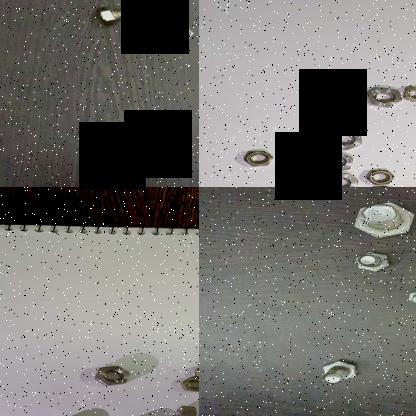Bolts: (347, 198, 416, 240), (306, 354, 366, 385), (95, 1, 162, 28), (348, 252, 392, 272), (168, 22, 198, 41), (396, 288, 416, 306)
NUTS: (314, 147, 354, 173), (326, 125, 364, 151), (88, 364, 132, 386), (366, 84, 404, 107), (242, 147, 280, 170), (314, 171, 360, 187), (301, 136, 337, 155), (366, 166, 398, 186), (173, 399, 199, 416), (400, 82, 416, 103), (181, 375, 199, 392), (366, 182, 399, 187), (193, 361, 199, 379)
